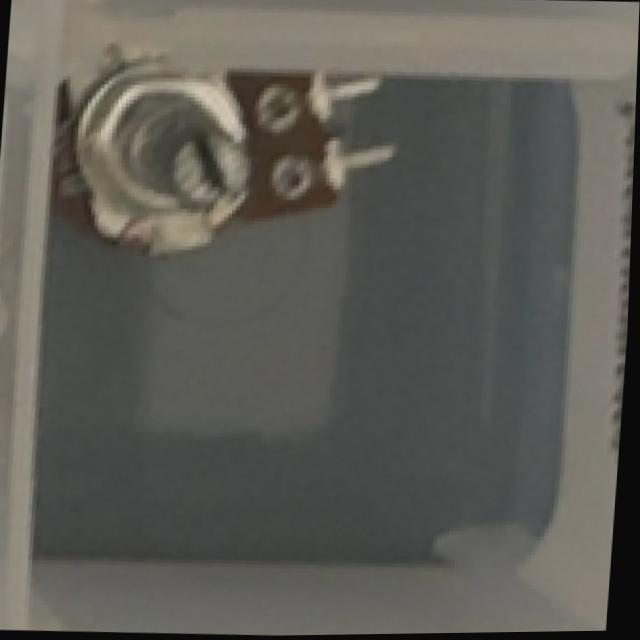Potentiometer: (33, 8, 405, 258)
